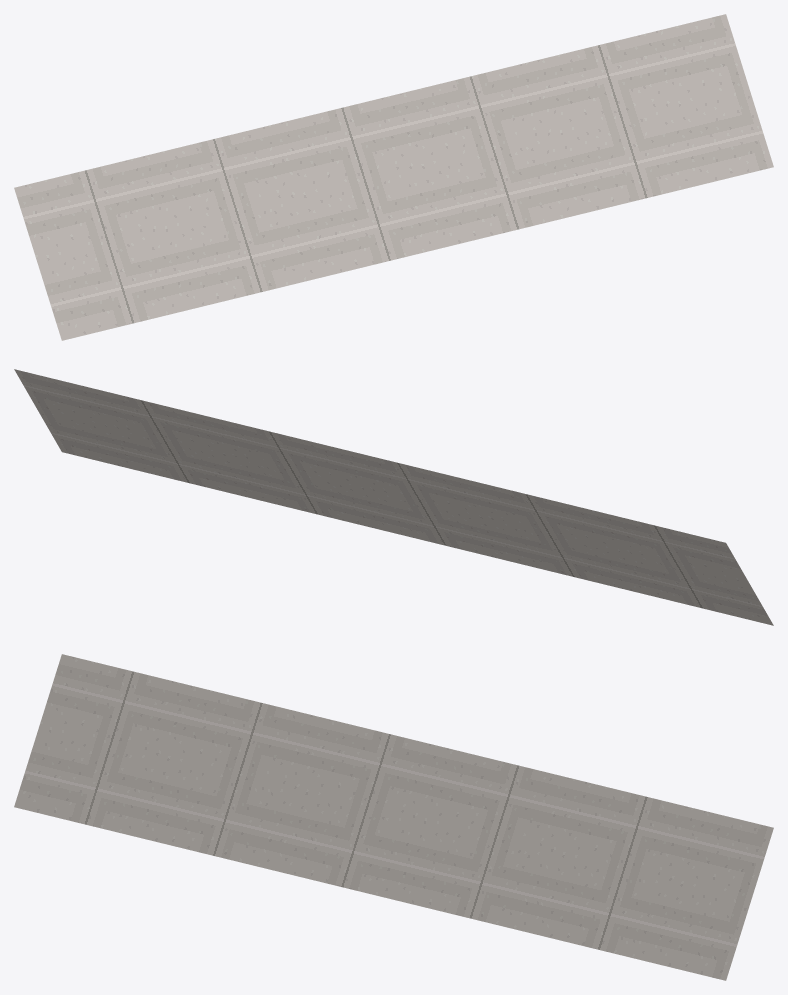
File: kd_stage_135c43_2_16_bounded.glb
The picture shows the model from 3 angles, top to bottom: view 1: azimuth 30°, elevation 25°; view 2: azimuth 150°, elevation 25°; view 3: azimuth 330°, elevation 25°; orthographic projection.
Visible parts, largest first — view 1: kd_stage_135c43_2_16_bounded; view 2: kd_stage_135c43_2_16_bounded; view 3: kd_stage_135c43_2_16_bounded.
Boxes of the visible parts, x1,y1,x2,y2 form: kd_stage_135c43_2_16_bounded: (14,14,773,340); kd_stage_135c43_2_16_bounded: (14,369,773,625); kd_stage_135c43_2_16_bounded: (14,654,773,980).
Bounding box in the file's own units: 4.46 × 0.7062 × 0.5192.
1 material, 1 textured.
